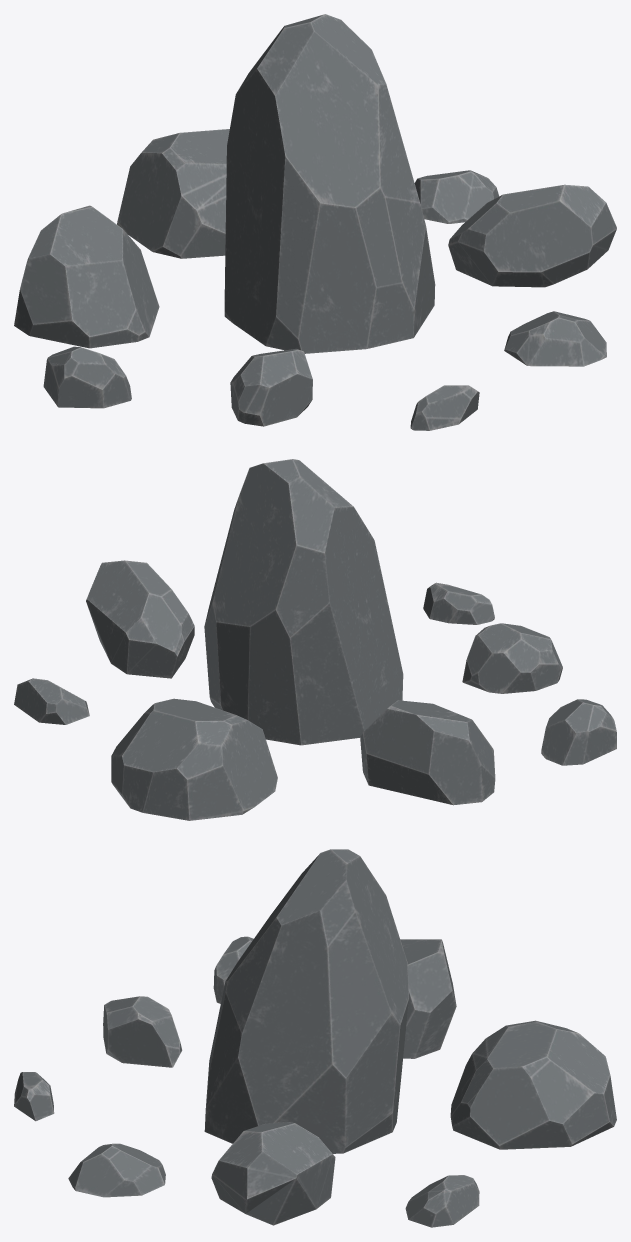
Rendered from rocks.glb.
3 views of the same model, one above another, from view 1: azimuth 30°, elevation 25°; view 2: azimuth 150°, elevation 25°; view 3: azimuth 270°, elevation 25° (orthographic). The views are drawn at different scales.
Visible parts, largest first — view 1: rocks; view 2: rocks; view 3: rocks.
Boxes of the visible parts, box(x1,y1,x2,y2) form: rocks: box(14, 14, 616, 430); rocks: box(14, 459, 616, 820); rocks: box(14, 849, 616, 1227).
Bounding box in the file's own units: 19.96 × 9.41 × 19.3.
Materials: 1 (1 with a texture image).
